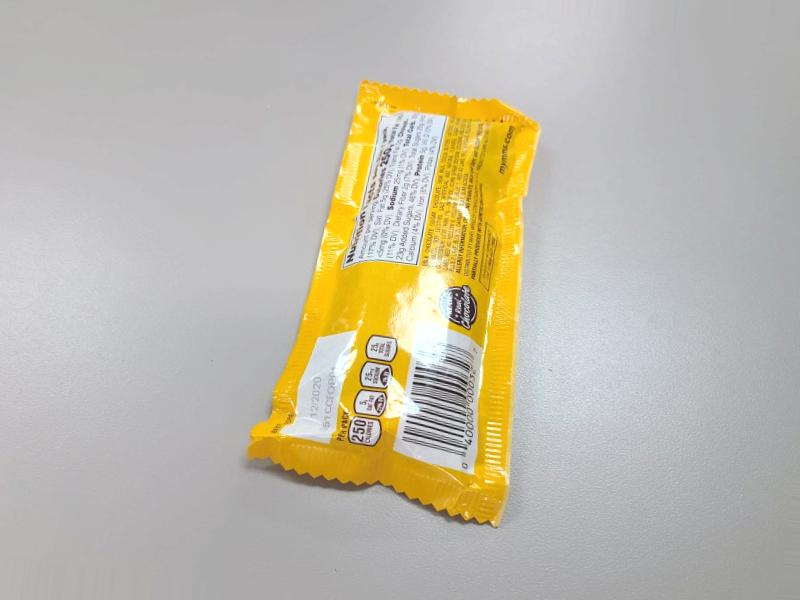m&m: (266, 146, 528, 531)
